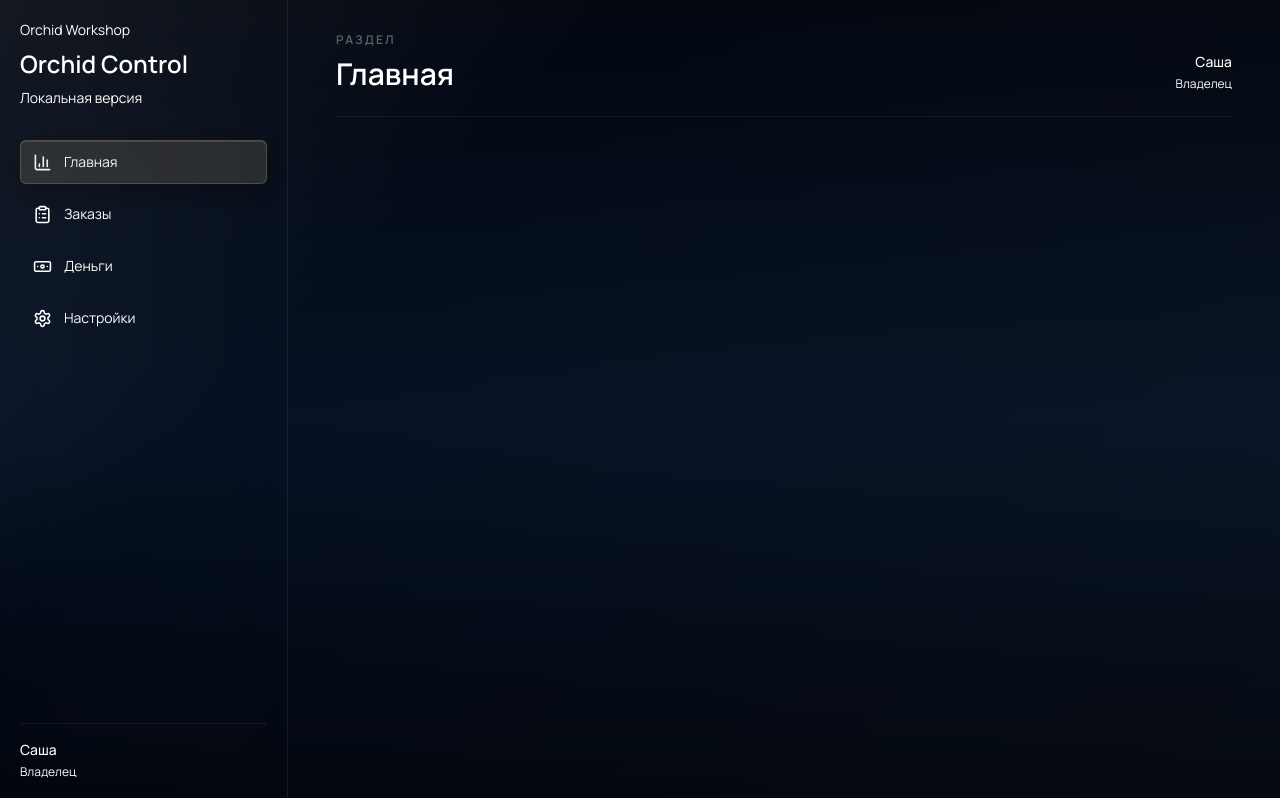
Test: App › opens a separate money operations ledger from the overview
Check: the button labelled "Заказы" is shown, box [20,192,267,236]
Click the button labelled "Деньги".
click(144, 266)  # box [20,244,267,288]
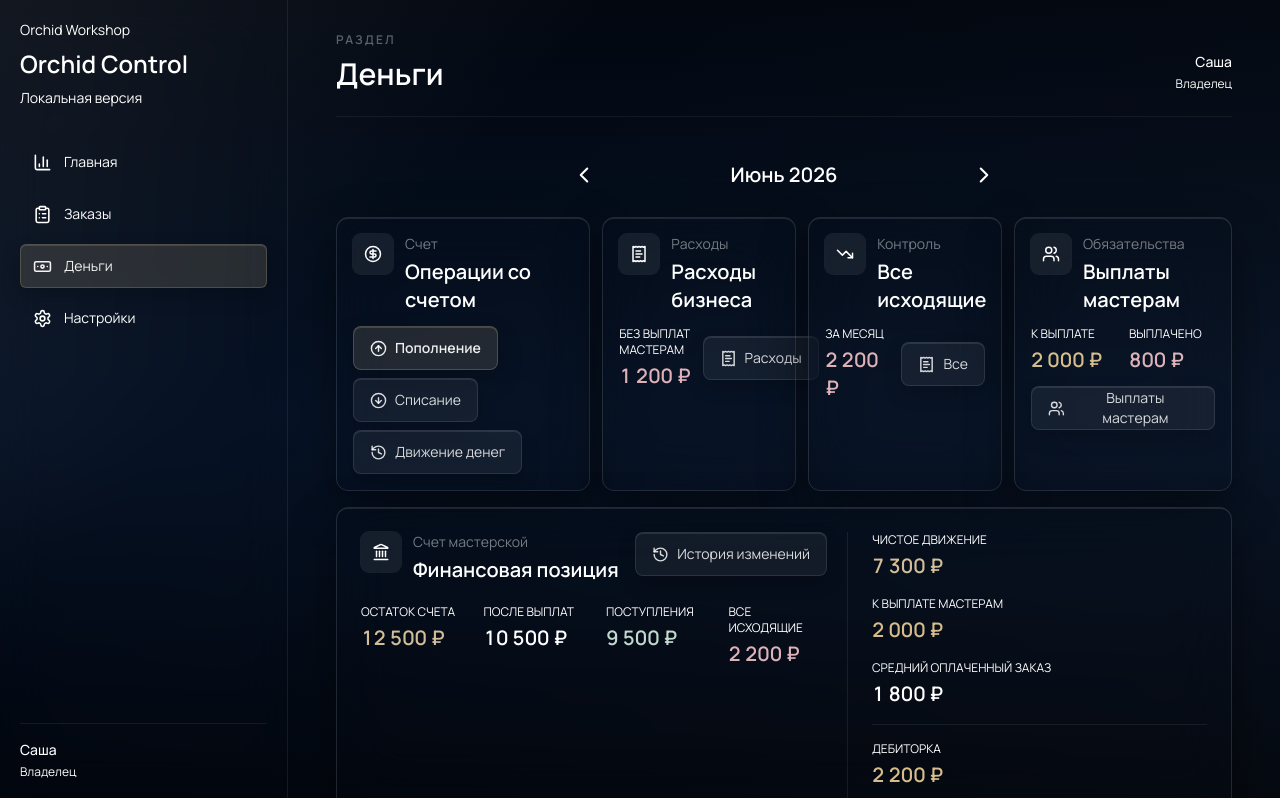
Check: the heading "Финансовая позиция" is shown, box [413,556,619,584]
Click the button "Движение денег".
click(438, 452)  # box [353,430,522,474]
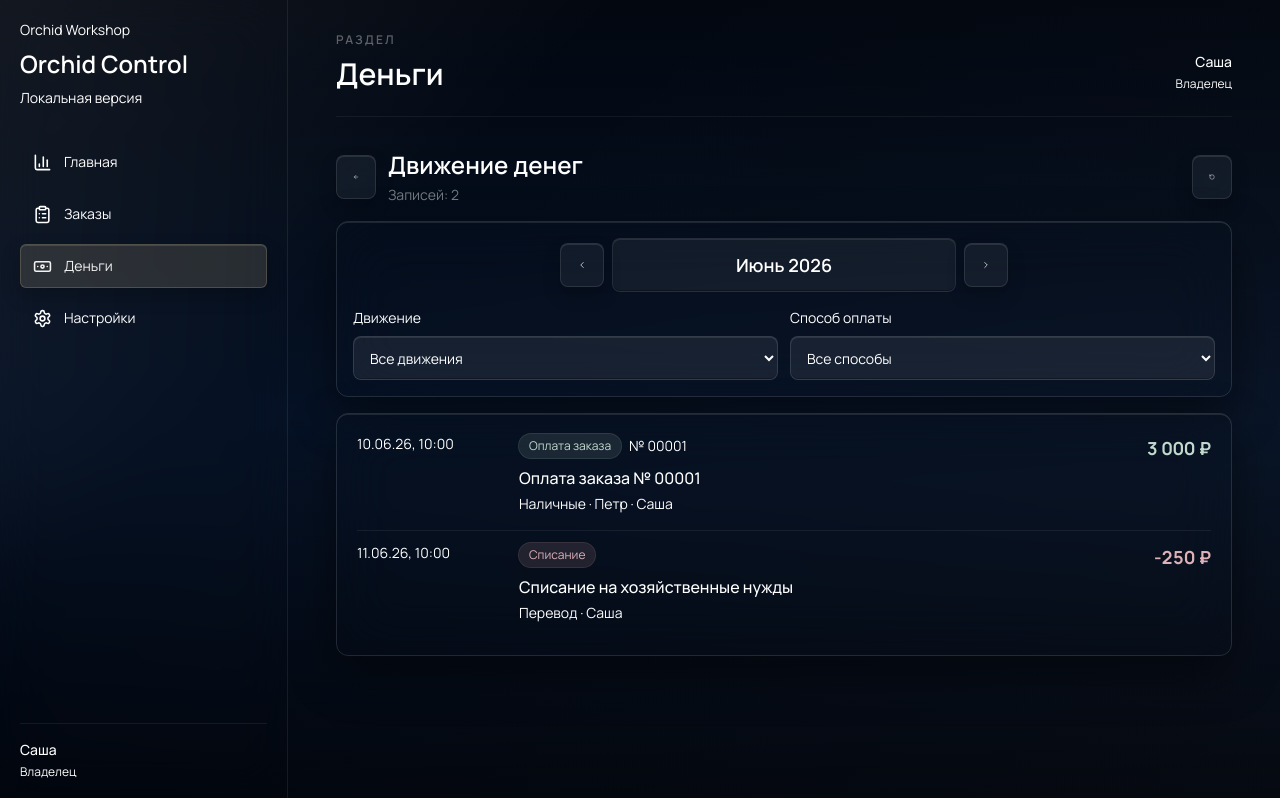
Check: the heading "Движение денег" is shown, box [388,149,583,181]
Check: the text "Оплата заказа № 00001" is shown, box [519,467,701,489]
Check: the text "Списание на хозяйственные нужды" is shown, box [519,576,793,598]
Select "Списания" in the dropdown labelled "Движение" at (566, 358), box [353,336,778,380]
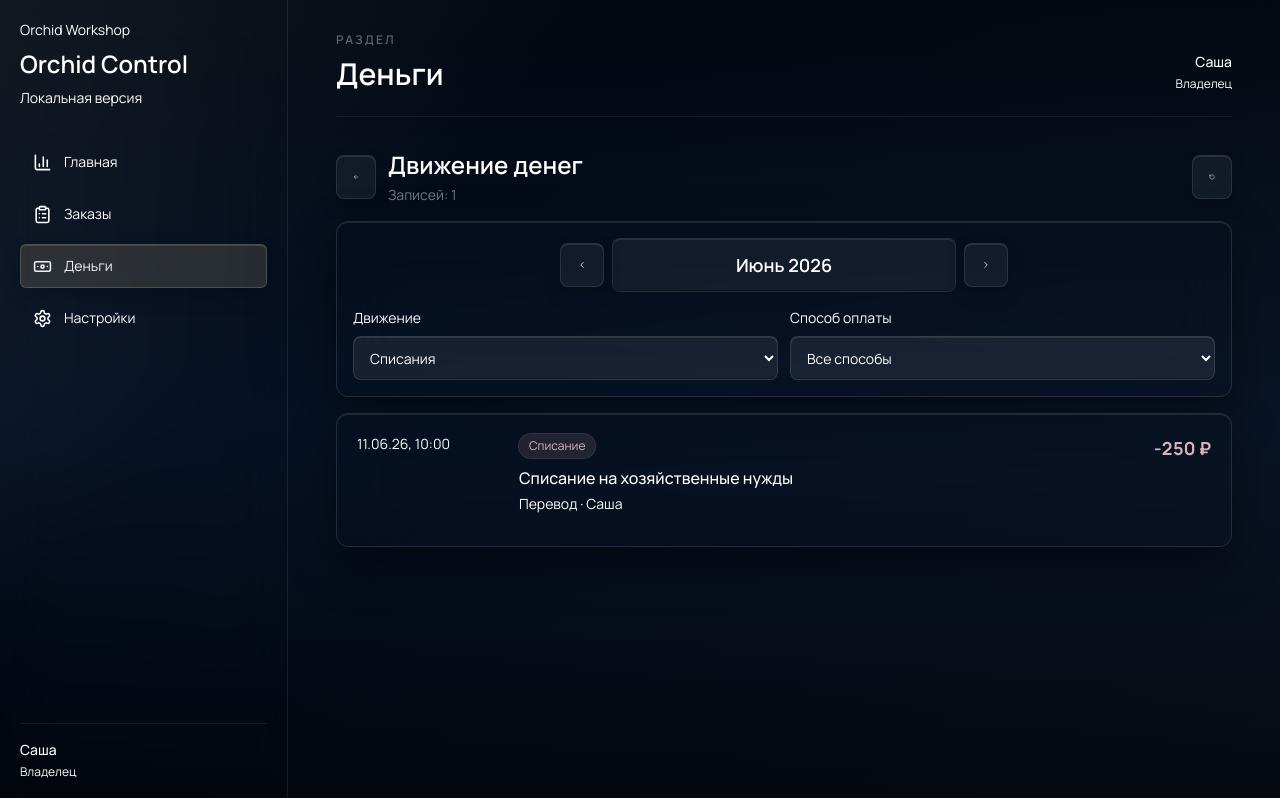
Check: the text "Списание на хозяйственные нужды" is shown, box [519,467,793,489]
Check: the text "Оплата заказа № 00001" is gone
Select "Наличные" in the dropdown labelled "Способ оплаты" at (1002, 358), box [790,336,1215,380]
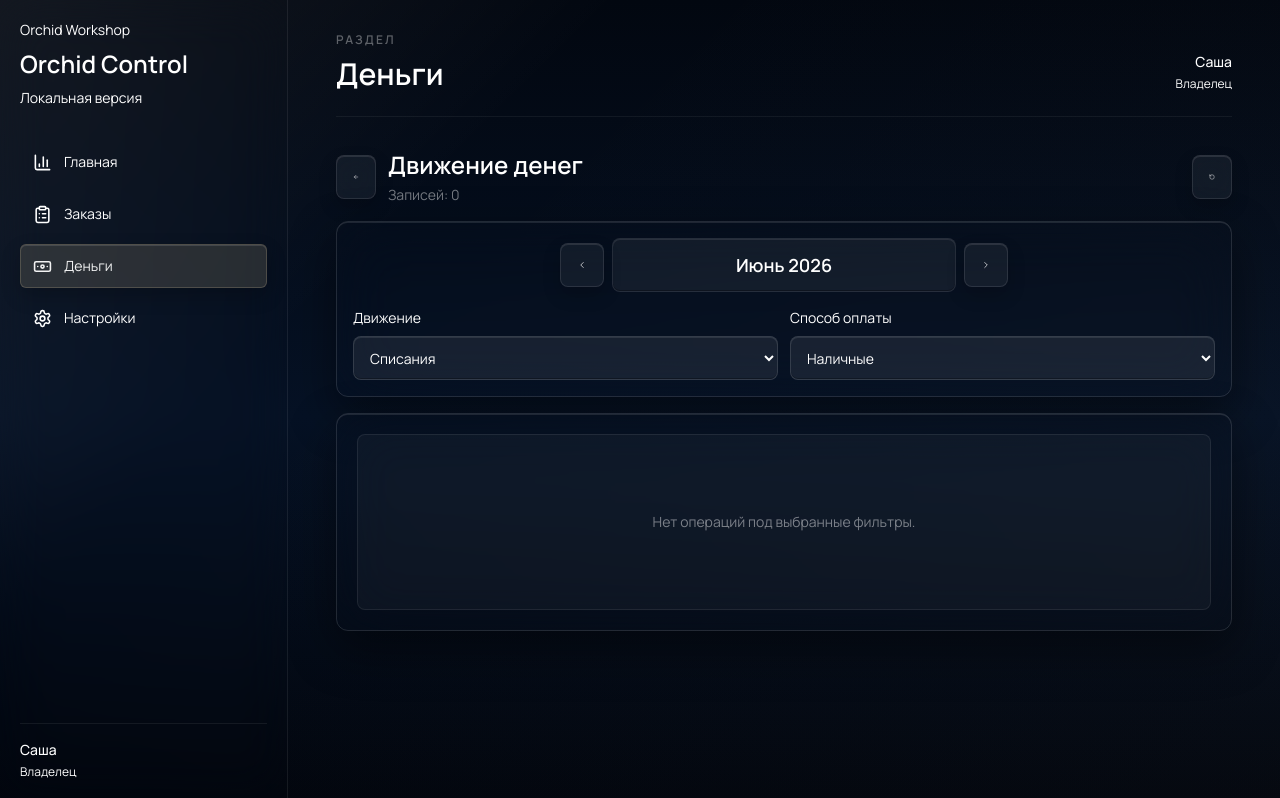
Check: the text "Нет операций под выбранные фильтры." is shown, box [357,434,1211,610]
